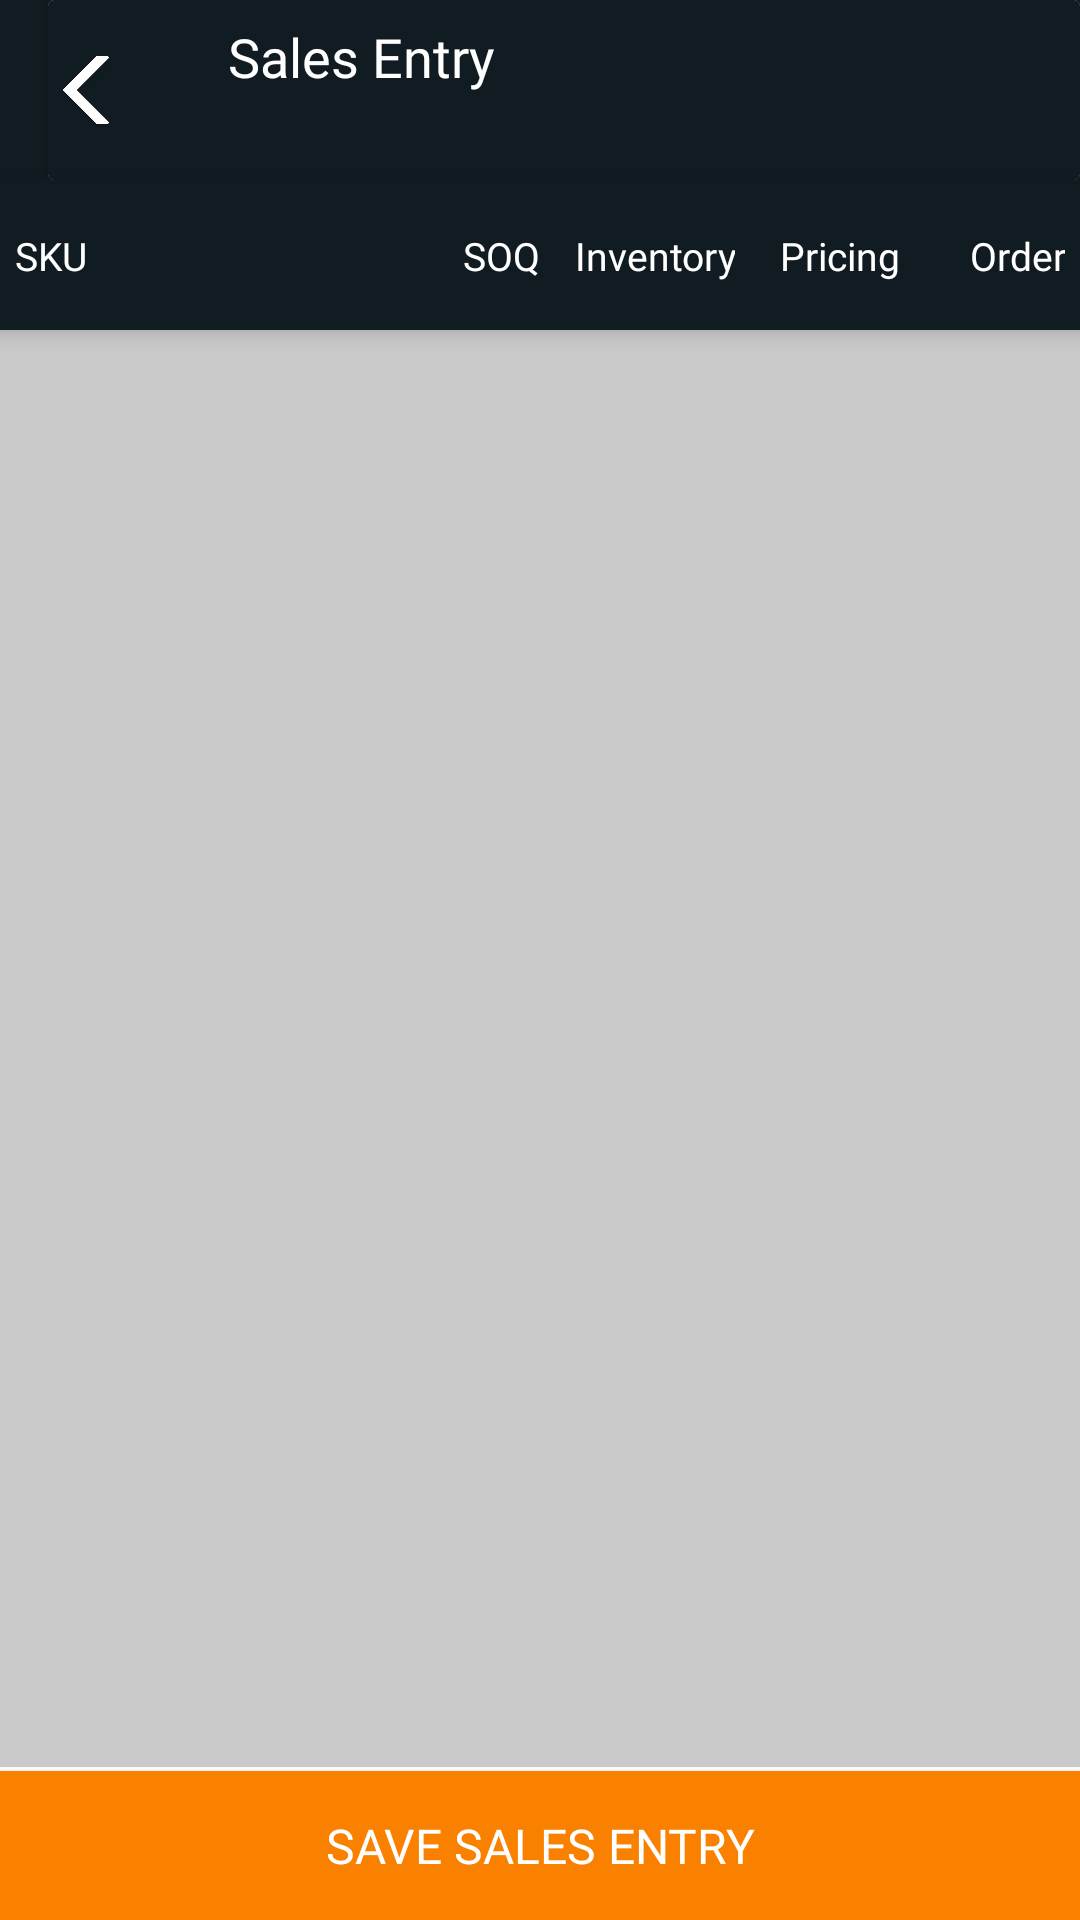

Where icons sit on this 1080 × 1920 app screen, as (x1, y1, x2, y2):
arrow: (63, 56, 109, 124)
